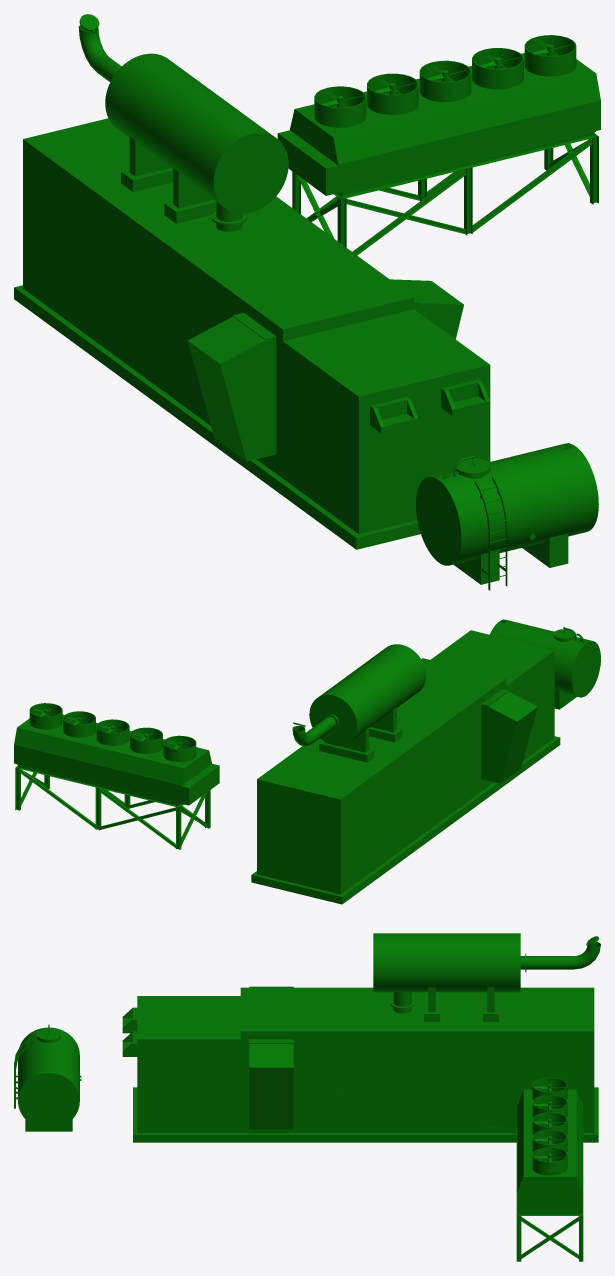
The picture shows the model from 3 angles, top to bottom: view 1: azimuth 30°, elevation 25°; view 2: azimuth 150°, elevation 25°; view 3: azimuth 270°, elevation 25°; orthographic projection. The views are drawn at different scales.
Visible parts, largest first — view 1: BOX 5 of SUBEQUIPMENT 5 of EQUIPMENT /PA0121.01, BOX 2 of SUBEQUIPMENT 5 of EQUIPMENT /PA0121.01, CYLINDER 1 of SUBEQUIPMENT 6 of EQUIPMENT /PA0121.01, CYLINDER 1 of SUBEQUIPMENT 1 of EQUIPMENT /PA0121.01, PYRAMID 1 of SUBEQUIPMENT 8 of EQUIPMENT /PA0121.01, BOX 9 of SUBEQUIPMENT 5 of EQUIPMENT /PA0121.01, BOX 1 of SUBEQUIPMENT 8 of EQUIPMENT /PA0121.01, BOX 1 of SUBEQUIPMENT 5 of EQUIPMENT /PA0121.01, BOX 2 of SUBEQUIPMENT 8 of EQUIPMENT /PA0121.01, BOX 8 of SUBEQUIPMENT 5 of EQUIPMENT /PA0121.01, CYLINDER 3 of SUBEQUIPMENT 8 of EQUIPMENT /PA0121.01, CYLINDER 7 of SUBEQUIPMENT 8 of EQUIPMENT /PA0121.01 (+14 smaller); view 2: BOX 5 of SUBEQUIPMENT 5 of EQUIPMENT /PA0121.01, CYLINDER 1 of SUBEQUIPMENT 6 of EQUIPMENT /PA0121.01, BOX 2 of SUBEQUIPMENT 5 of EQUIPMENT /PA0121.01, PYRAMID 1 of SUBEQUIPMENT 8 of EQUIPMENT /PA0121.01, BOX 9 of SUBEQUIPMENT 5 of EQUIPMENT /PA0121.01, CYLINDER 1 of SUBEQUIPMENT 1 of EQUIPMENT /PA0121.01, BOX 1 of SUBEQUIPMENT 5 of EQUIPMENT /PA0121.01, BOX 1 of SUBEQUIPMENT 8 of EQUIPMENT /PA0121.01, BOX 2 of SUBEQUIPMENT 8 of EQUIPMENT /PA0121.01, CYLINDER 7 of SUBEQUIPMENT 8 of EQUIPMENT /PA0121.01, CYLINDER 3 of SUBEQUIPMENT 8 of EQUIPMENT /PA0121.01, CYLINDER 1 of SUBEQUIPMENT 8 of EQUIPMENT /PA0121.01 (+6 smaller); view 3: BOX 5 of SUBEQUIPMENT 5 of EQUIPMENT /PA0121.01, BOX 2 of SUBEQUIPMENT 5 of EQUIPMENT /PA0121.01, CYLINDER 1 of SUBEQUIPMENT 6 of EQUIPMENT /PA0121.01, CYLINDER 1 of SUBEQUIPMENT 1 of EQUIPMENT /PA0121.01, BOX 1 of SUBEQUIPMENT 5 of EQUIPMENT /PA0121.01, BOX 8 of SUBEQUIPMENT 5 of EQUIPMENT /PA0121.01, PYRAMID 1 of SUBEQUIPMENT 8 of EQUIPMENT /PA0121.01, BOX 1 of SUBEQUIPMENT 8 of EQUIPMENT /PA0121.01, CYLINDER 7 of SUBEQUIPMENT 8 of EQUIPMENT /PA0121.01, CYLINDER 7 of SUBEQUIPMENT 6 of EQUIPMENT /PA0121.01, CYLINDER 1 of SUBEQUIPMENT 8 of EQUIPMENT /PA0121.01, CYLINDER 3 of SUBEQUIPMENT 8 of EQUIPMENT /PA0121.01 (+2 smaller).
Part boxes in pixels (left/top/right/bottom): BOX 5 of SUBEQUIPMENT 5 of EQUIPMENT /PA0121.01: left=23, top=118, right=414, bottom=478; BOX 2 of SUBEQUIPMENT 5 of EQUIPMENT /PA0121.01: left=283, top=309, right=490, bottom=533; CYLINDER 1 of SUBEQUIPMENT 6 of EQUIPMENT /PA0121.01: left=105, top=53, right=288, bottom=213; CYLINDER 1 of SUBEQUIPMENT 1 of EQUIPMENT /PA0121.01: left=416, top=443, right=598, bottom=565; PYRAMID 1 of SUBEQUIPMENT 8 of EQUIPMENT /PA0121.01: left=290, top=53, right=600, bottom=164; BOX 9 of SUBEQUIPMENT 5 of EQUIPMENT /PA0121.01: left=187, top=312, right=276, bottom=461; BOX 1 of SUBEQUIPMENT 8 of EQUIPMENT /PA0121.01: left=290, top=100, right=600, bottom=193; BOX 1 of SUBEQUIPMENT 5 of EQUIPMENT /PA0121.01: left=14, top=285, right=420, bottom=549; BOX 2 of SUBEQUIPMENT 8 of EQUIPMENT /PA0121.01: left=277, top=130, right=338, bottom=195; BOX 8 of SUBEQUIPMENT 5 of EQUIPMENT /PA0121.01: left=390, top=279, right=463, bottom=339; CYLINDER 3 of SUBEQUIPMENT 8 of EQUIPMENT /PA0121.01: left=314, top=86, right=366, bottom=127; CYLINDER 7 of SUBEQUIPMENT 8 of EQUIPMENT /PA0121.01: left=524, top=35, right=576, bottom=76; BOX 5 of SUBEQUIPMENT 5 of EQUIPMENT /PA0121.01: left=257, top=658, right=506, bottom=894; CYLINDER 1 of SUBEQUIPMENT 6 of EQUIPMENT /PA0121.01: left=309, top=644, right=426, bottom=745; BOX 2 of SUBEQUIPMENT 5 of EQUIPMENT /PA0121.01: left=430, top=630, right=554, bottom=760; PYRAMID 1 of SUBEQUIPMENT 8 of EQUIPMENT /PA0121.01: left=14, top=714, right=211, bottom=785; BOX 9 of SUBEQUIPMENT 5 of EQUIPMENT /PA0121.01: left=481, top=689, right=537, bottom=783; CYLINDER 1 of SUBEQUIPMENT 1 of EQUIPMENT /PA0121.01: left=490, top=619, right=600, bottom=697; BOX 1 of SUBEQUIPMENT 5 of EQUIPMENT /PA0121.01: left=251, top=736, right=560, bottom=904; BOX 1 of SUBEQUIPMENT 8 of EQUIPMENT /PA0121.01: left=14, top=745, right=211, bottom=804; BOX 2 of SUBEQUIPMENT 8 of EQUIPMENT /PA0121.01: left=181, top=763, right=219, bottom=805; CYLINDER 7 of SUBEQUIPMENT 8 of EQUIPMENT /PA0121.01: left=29, top=703, right=62, bottom=729; CYLINDER 3 of SUBEQUIPMENT 8 of EQUIPMENT /PA0121.01: left=163, top=735, right=196, bottom=762; CYLINDER 1 of SUBEQUIPMENT 8 of EQUIPMENT /PA0121.01: left=96, top=719, right=129, bottom=745; BOX 5 of SUBEQUIPMENT 5 of EQUIPMENT /PA0121.01: left=240, top=987, right=594, bottom=1132; BOX 2 of SUBEQUIPMENT 5 of EQUIPMENT /PA0121.01: left=137, top=996, right=240, bottom=1132; CYLINDER 1 of SUBEQUIPMENT 6 of EQUIPMENT /PA0121.01: left=373, top=933, right=520, bottom=992; CYLINDER 1 of SUBEQUIPMENT 1 of EQUIPMENT /PA0121.01: left=18, top=1027, right=79, bottom=1128; BOX 1 of SUBEQUIPMENT 5 of EQUIPMENT /PA0121.01: left=133, top=1087, right=598, bottom=1142; BOX 8 of SUBEQUIPMENT 5 of EQUIPMENT /PA0121.01: left=249, top=1039, right=293, bottom=1129; PYRAMID 1 of SUBEQUIPMENT 8 of EQUIPMENT /PA0121.01: left=517, top=1089, right=582, bottom=1192; BOX 1 of SUBEQUIPMENT 8 of EQUIPMENT /PA0121.01: left=517, top=1193, right=582, bottom=1212; CYLINDER 7 of SUBEQUIPMENT 8 of EQUIPMENT /PA0121.01: left=532, top=1147, right=567, bottom=1175; CYLINDER 7 of SUBEQUIPMENT 6 of EQUIPMENT /PA0121.01: left=526, top=956, right=573, bottom=969; CYLINDER 1 of SUBEQUIPMENT 8 of EQUIPMENT /PA0121.01: left=532, top=1112, right=567, bottom=1134; CYLINDER 3 of SUBEQUIPMENT 8 of EQUIPMENT /PA0121.01: left=532, top=1077, right=567, bottom=1099.
Bounding box in the file's own units: 15.39 × 19.91 × 6.85.
